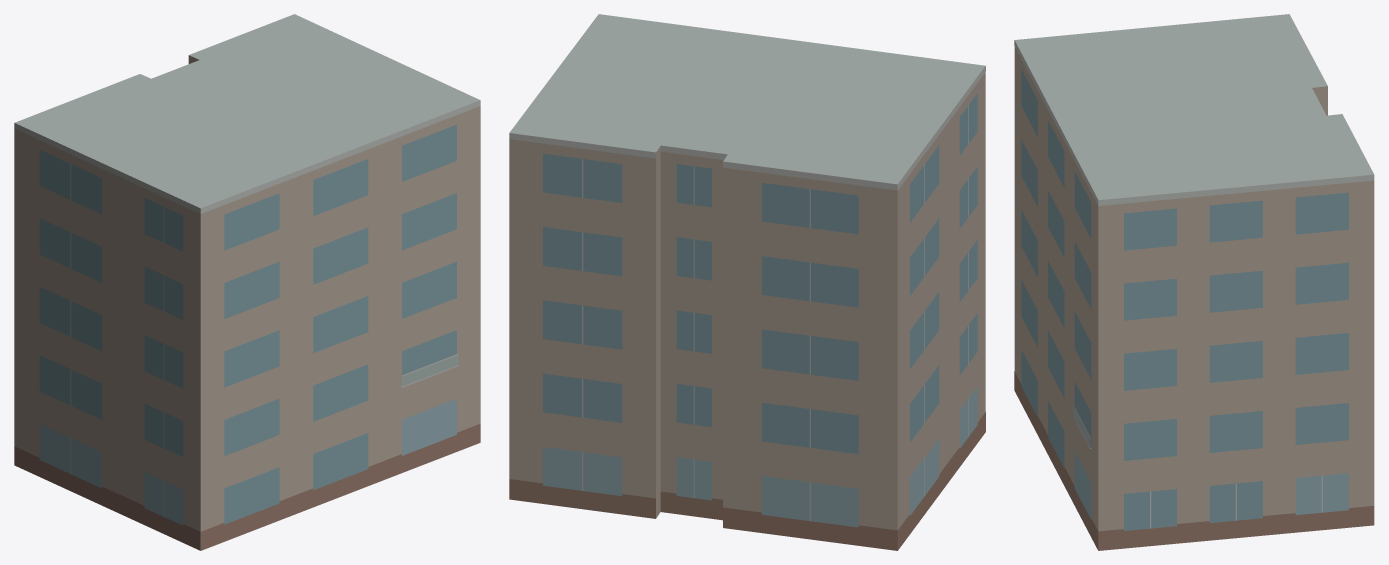
The model's file is survey-upis-32538095.glb.
3 views of the same model, side by side, from view 1: azimuth 30°, elevation 25°; view 2: azimuth 150°, elevation 25°; view 3: azimuth 270°, elevation 25° (orthographic). The views are drawn at different scales.
Visible parts, largest first — view 1: survey-upis-32538095.tmp; view 2: survey-upis-32538095.tmp; view 3: survey-upis-32538095.tmp.
Boxes of the visible parts, left/top/right/bottom form: survey-upis-32538095.tmp: left=14, top=14, right=480, bottom=550; survey-upis-32538095.tmp: left=509, top=14, right=985, bottom=550; survey-upis-32538095.tmp: left=1014, top=14, right=1374, bottom=550.
Size of the model in its own units: 16.64 by 14.6 by 13.59.
